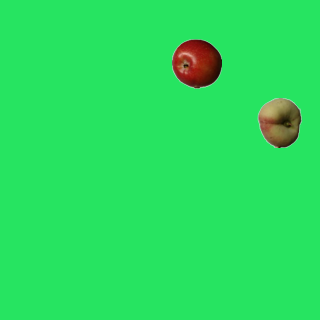Apple Braeburn: (171, 38, 221, 88)
Peach Flat: (254, 97, 304, 147)
